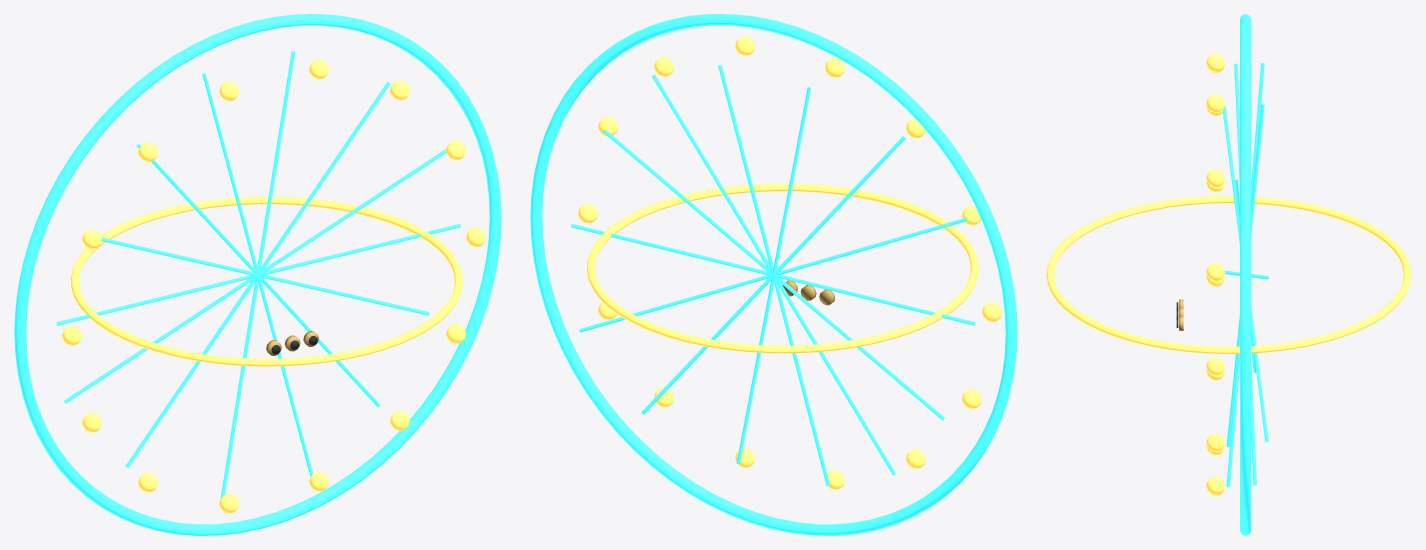
Rendered from 36_L89_RadiationHeatmapHologram.glb.
3 renders of one model, left to right at view 1: azimuth 30°, elevation 25°; view 2: azimuth 150°, elevation 25°; view 3: azimuth 270°, elevation 25°, orthographic. The views are drawn at different scales.
Parts seen in each view (by area): view 1: L87_RadiationHeatmapHologram_Part_0000, L87_RadiationHeatmapHologram_Part_0001; view 2: L87_RadiationHeatmapHologram_Part_0000, L87_RadiationHeatmapHologram_Part_0001; view 3: L87_RadiationHeatmapHologram_Part_0000, L87_RadiationHeatmapHologram_Part_0001.
Boxes of the visible parts, x1=… form: L87_RadiationHeatmapHologram_Part_0000: x1=14, y1=14, x2=501, y2=535; L87_RadiationHeatmapHologram_Part_0001: x1=62, y1=60, x2=486, y2=513; L87_RadiationHeatmapHologram_Part_0000: x1=530, y1=14, x2=1017, y2=535; L87_RadiationHeatmapHologram_Part_0001: x1=578, y1=36, x2=1002, y2=489; L87_RadiationHeatmapHologram_Part_0000: x1=1223, y1=14, x2=1268, y2=535; L87_RadiationHeatmapHologram_Part_0001: x1=1046, y1=53, x2=1411, y2=496.
Size of the model in its own units: 4.7 by 4.7 by 3.29.
